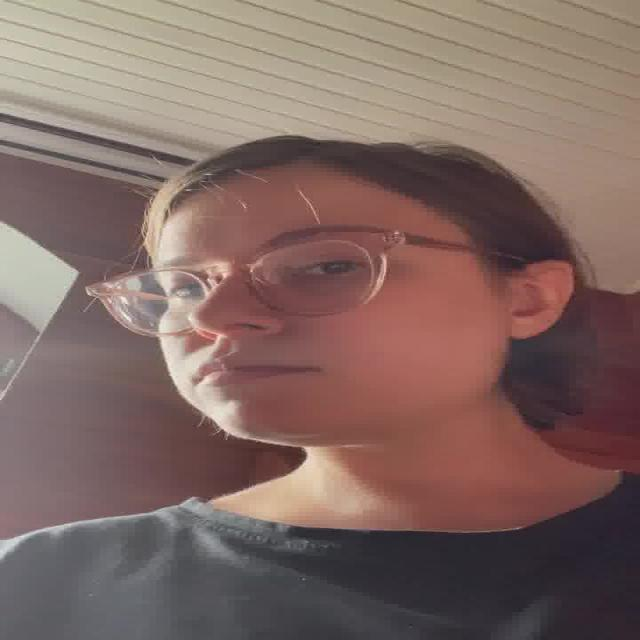earlobe: (502, 261, 576, 341)
